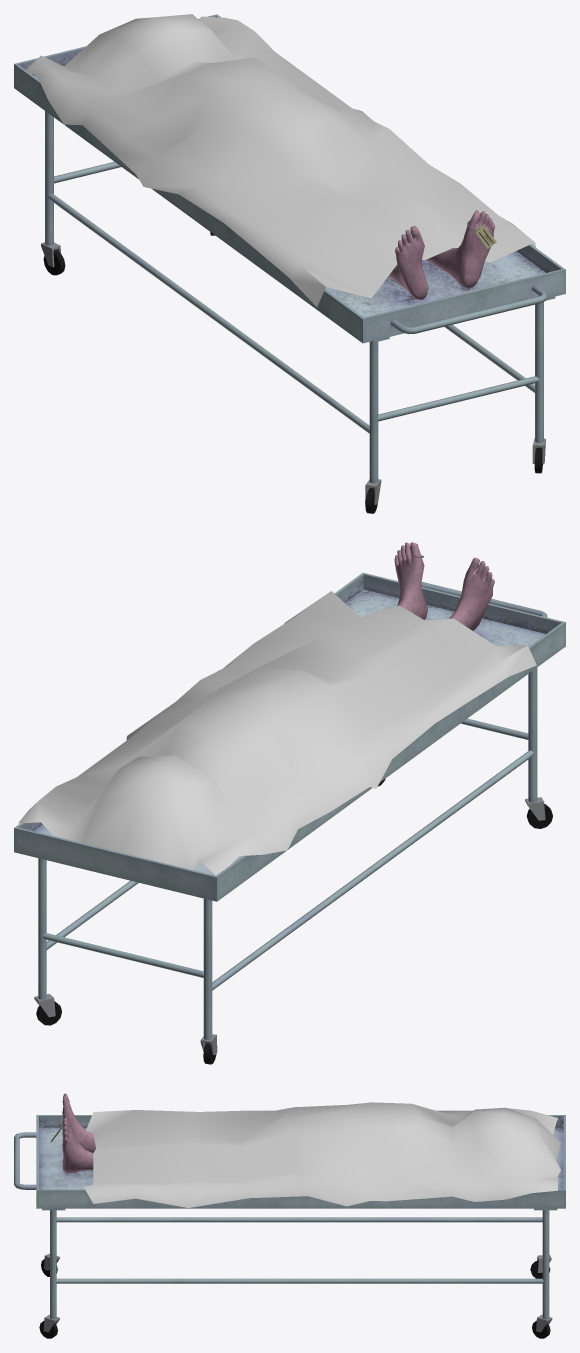
Rendered from dead1.glb.
3 renders of one model, top to bottom at view 1: azimuth 30°, elevation 25°; view 2: azimuth 150°, elevation 25°; view 3: azimuth 270°, elevation 25°, orthographic. The views are drawn at different scales.
Parts seen in each view (by area): view 1: Torus; view 2: Torus; view 3: Torus.
Boxes of the visible parts, bbox=[...] form: Torus: bbox=[14, 14, 565, 513]; Torus: bbox=[14, 542, 565, 1064]; Torus: bbox=[14, 1093, 565, 1338].
Bounding box in the file's own units: 0.7439 × 0.8052 × 2.
Materials: 1 (1 with a texture image).
